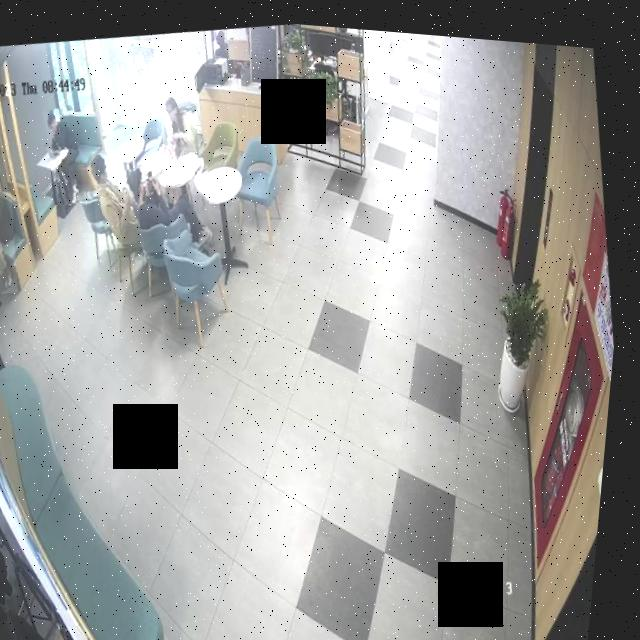person: (120, 148, 225, 262), (87, 142, 153, 251), (42, 102, 100, 206), (152, 88, 203, 164), (0, 189, 30, 298)
